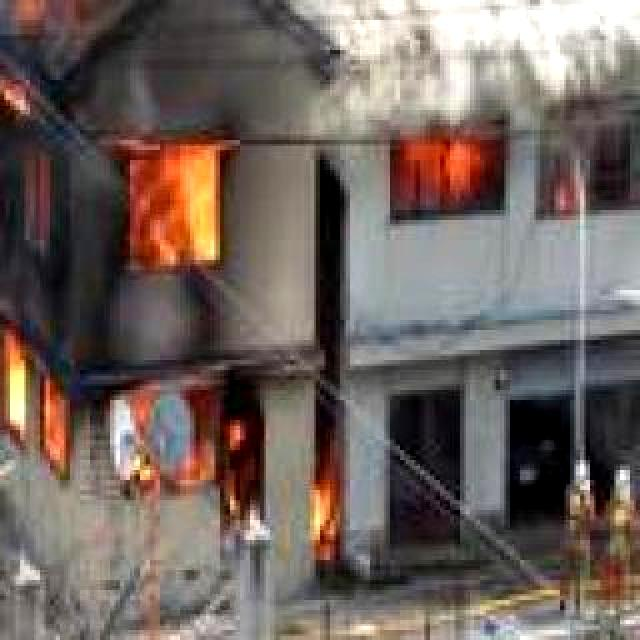fire: (394, 128, 590, 228), (122, 132, 232, 280), (306, 458, 349, 573), (0, 330, 40, 448), (0, 74, 38, 114)
